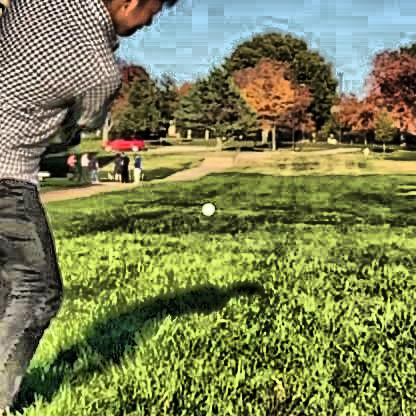golfball: (199, 200, 214, 214)
